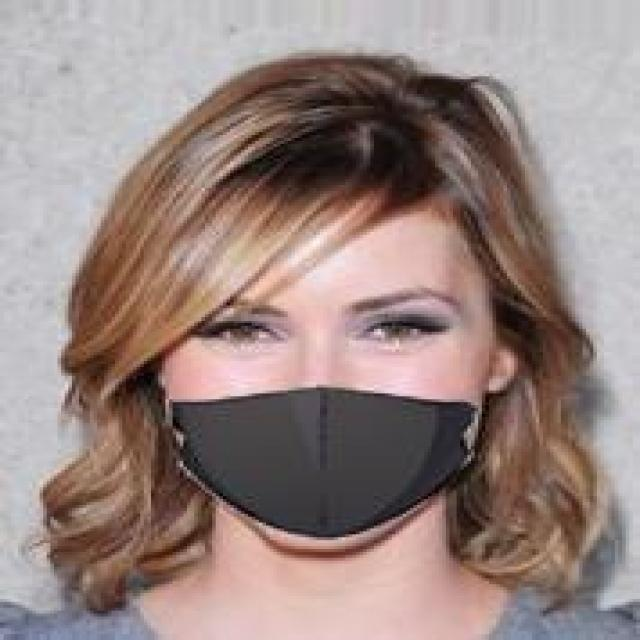mask: (79, 50, 565, 572)
